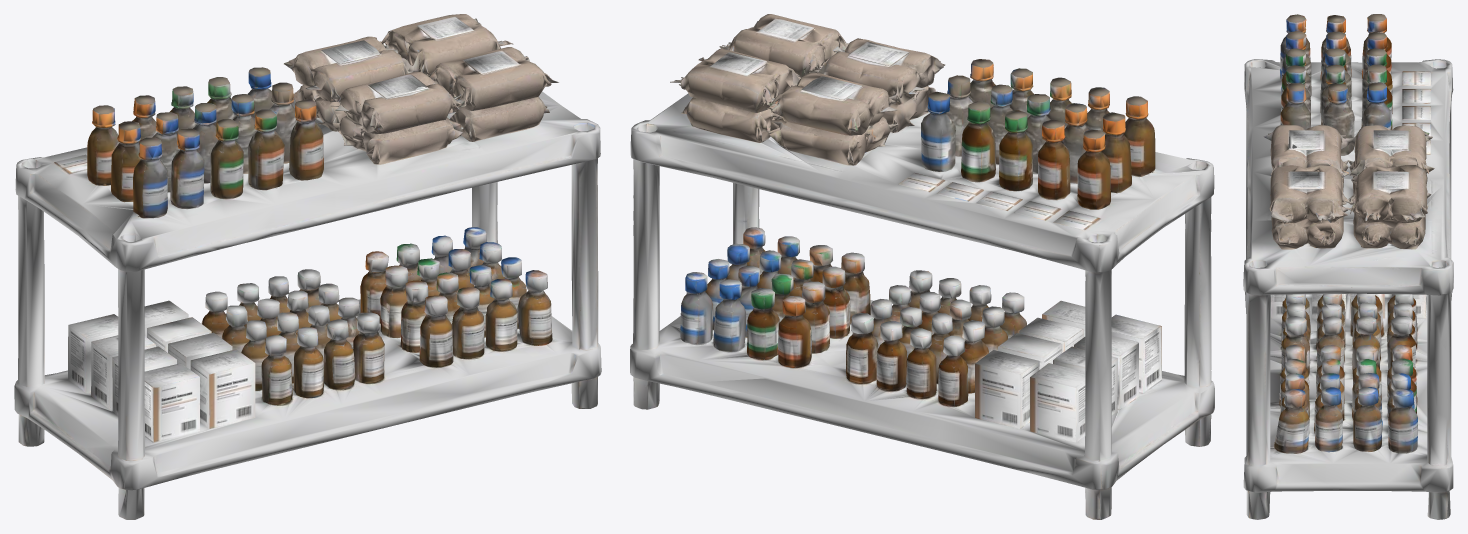
Rendered from supply-bench.glb.
The picture shows the model from 3 angles, left to right: view 1: azimuth 30°, elevation 25°; view 2: azimuth 150°, elevation 25°; view 3: azimuth 270°, elevation 25°; orthographic projection. The views are drawn at different scales.
Parts seen in each view (by area): view 1: mesh_node; view 2: mesh_node; view 3: mesh_node.
Boxes of the visible parts, <box> form: mesh_node: <box>14,14,601,519</box>; mesh_node: <box>630,14,1214,519</box>; mesh_node: <box>1243,14,1453,519</box>.
Bounding box in the file's own units: 1.9 × 1.31 × 0.7962.
1 material, 1 textured.
